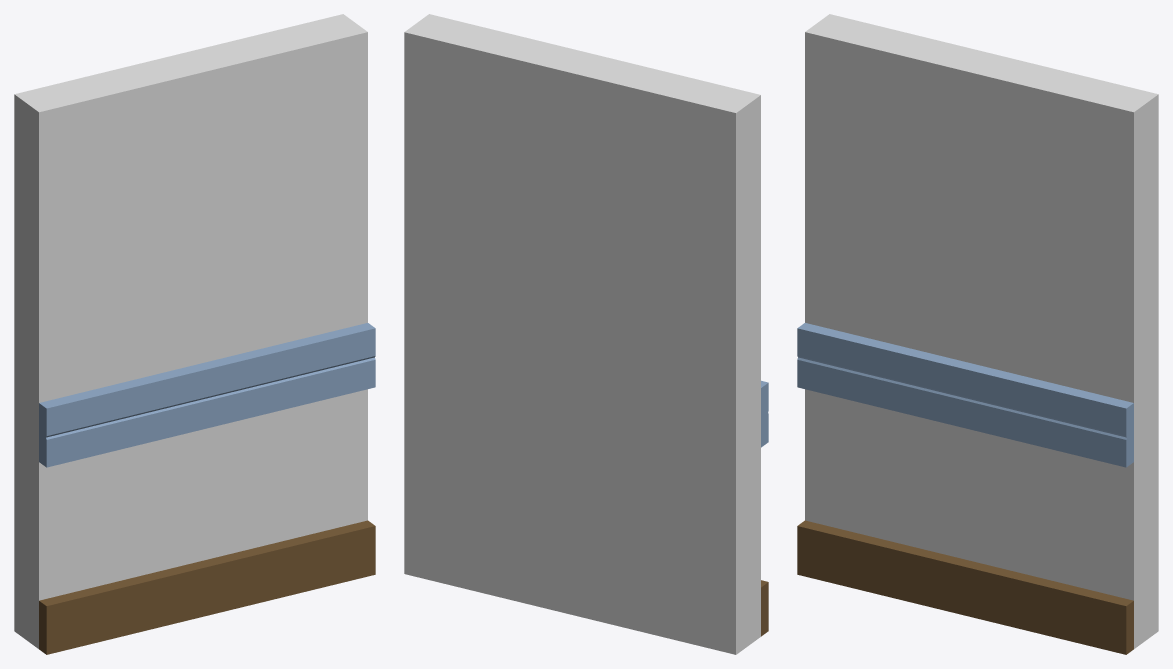
The model's file is wall_small_ward.fbx.
The picture shows the model from 3 angles, left to right: view 1: azimuth 30°, elevation 25°; view 2: azimuth 150°, elevation 25°; view 3: azimuth 330°, elevation 25°; orthographic projection.
Parts seen in each view (by area): view 1: H_Wall_Small_Ward; view 2: H_Wall_Small_Ward; view 3: H_Wall_Small_Ward.
Part boxes in pixels (x1,y1,x2,y2): H_Wall_Small_Ward: [14, 14, 375, 654]; H_Wall_Small_Ward: [404, 14, 768, 654]; H_Wall_Small_Ward: [797, 14, 1158, 654].
Bounding box in the file's own units: 1000 × 170 × 1560.
